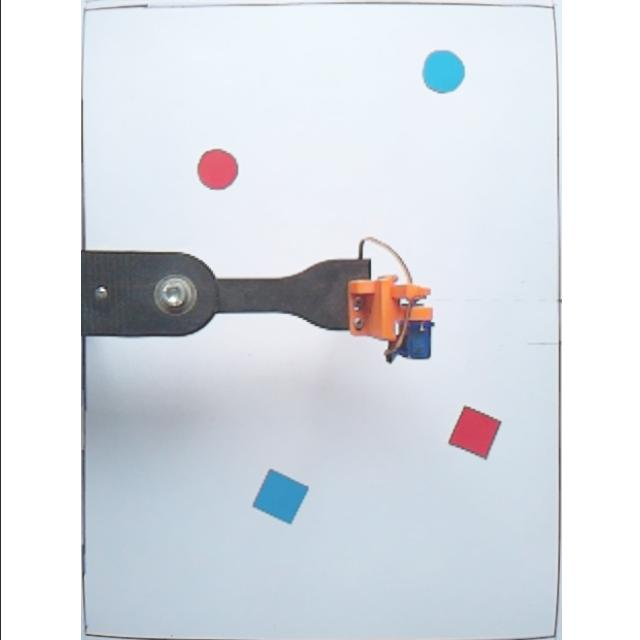blueCircle: (418, 50, 464, 96)
blueSquare: (250, 468, 306, 524)
redCircle: (194, 147, 238, 190)
redSquare: (444, 404, 502, 460)
